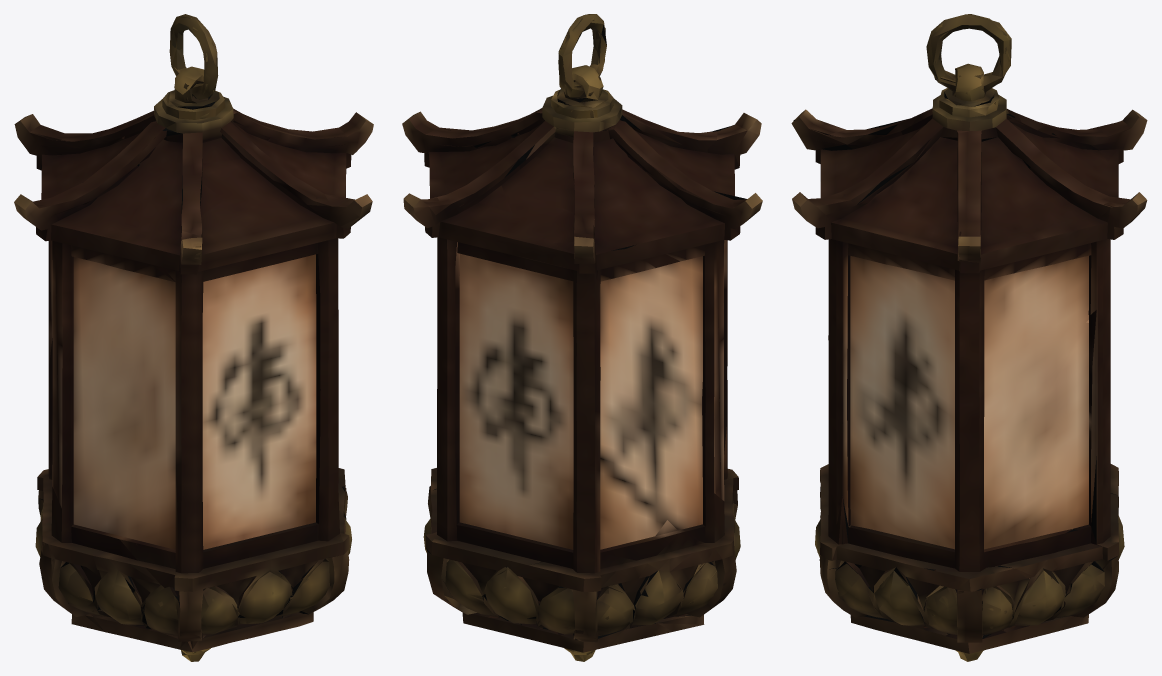
Rendered from buddhist-lantern-lod0.fbx.
The picture shows the model from 3 angles, left to right: view 1: azimuth 30°, elevation 25°; view 2: azimuth 150°, elevation 25°; view 3: azimuth 270°, elevation 25°; orthographic projection.
Visible parts, largest first — view 1: CE_buddhist-lantern_LOD0; view 2: CE_buddhist-lantern_LOD0; view 3: CE_buddhist-lantern_LOD0.
Part boxes in pixels (x1,y1,x2,y2): CE_buddhist-lantern_LOD0: [14, 14, 373, 661]; CE_buddhist-lantern_LOD0: [402, 14, 762, 661]; CE_buddhist-lantern_LOD0: [791, 14, 1147, 661].
Bounding box in the file's own units: 57.04 × 100 × 50.14.
1 material, 1 textured.
